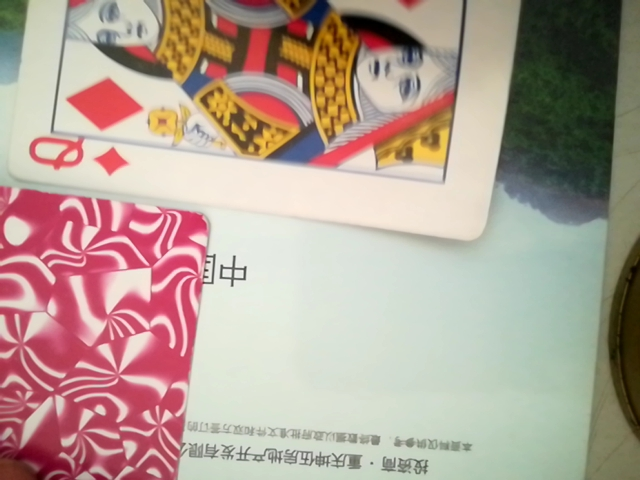fk q: (7, 0, 518, 248)
